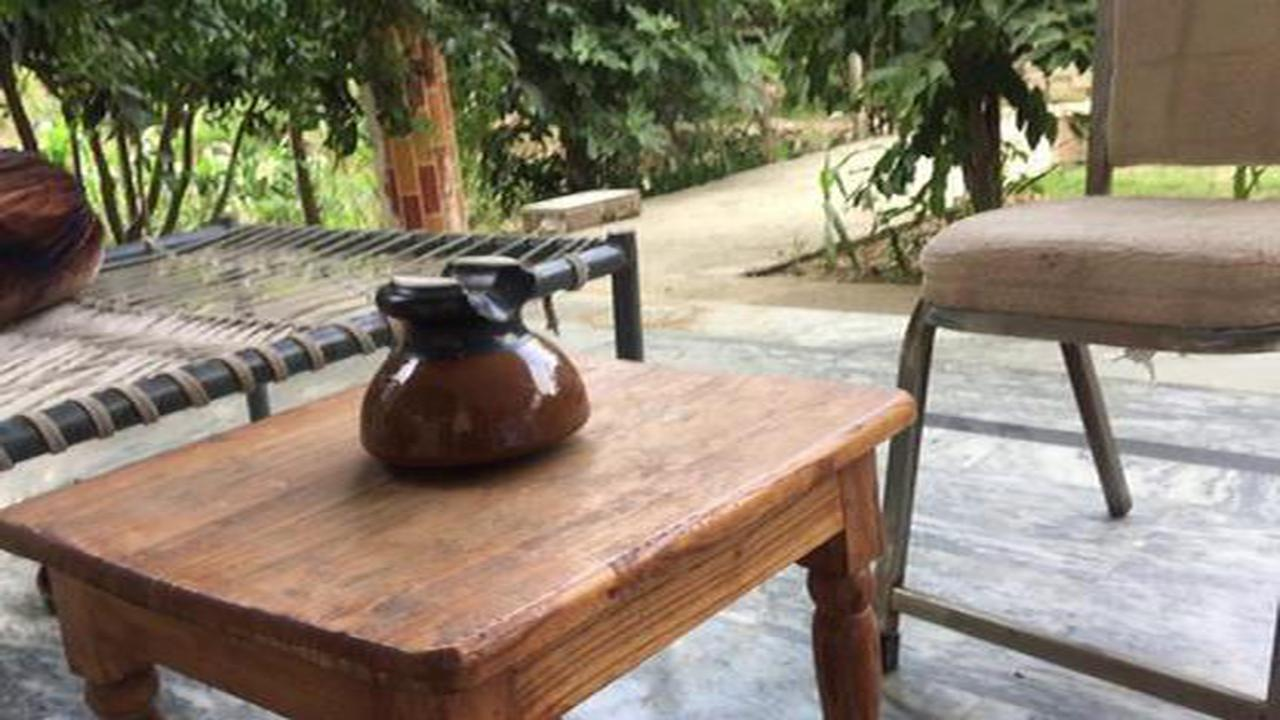insulator_pin: (339, 246, 610, 485)
